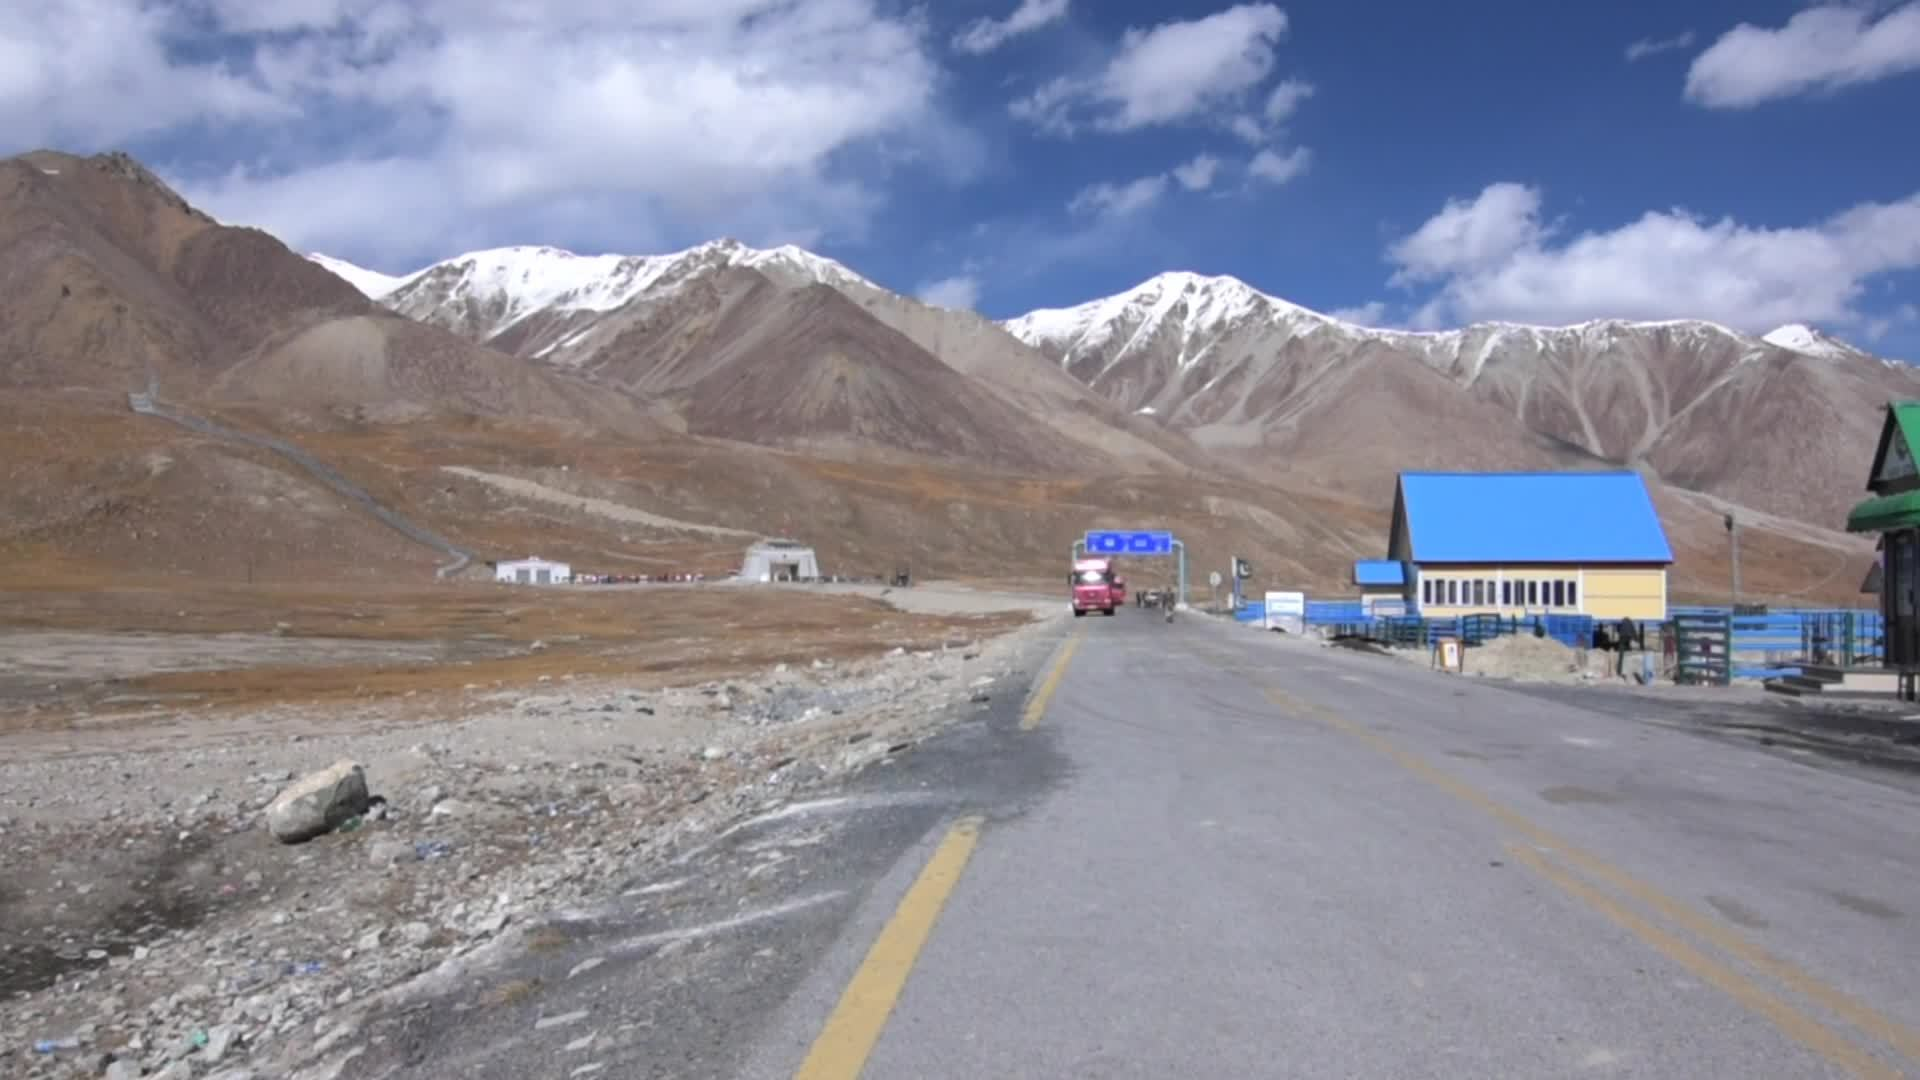straightRoad: (998, 651, 1679, 1080)
